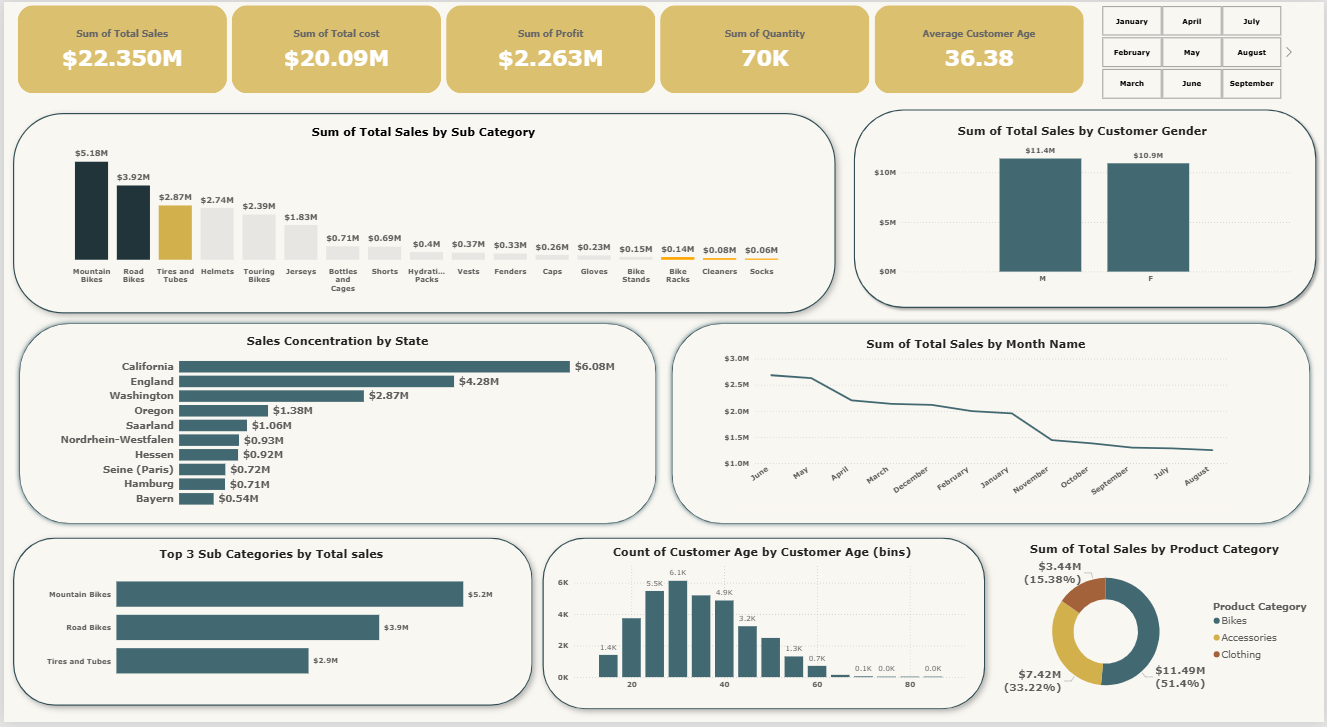

What the dashboard file says about the page in this screenshot:
{"tool":"powerbi","page":{"name":"Page 1","canvas":[2200,1200],"ordinal":0},"visuals":[{"type":"cardVisual","fields":{"Data":["Sum(dataset.Total Sales)","Sum(dataset.Total cost)","Sum(dataset.Profit)","Sum(dataset.Quantity)","dataset.Average Customer Age"]},"box":[17.5,0,1787.5,157.5],"z":0},{"type":"shape","box":[17.5,527.5,1077.5,350],"z":0,"group":"g3"},{"type":"barChart","title":"Sales Concentration by State","fields":{"Category":["dataset.State"],"Y":["Sum(dataset.Total Sales)"]},"box":[87.8,552.5,937,300],"z":1000,"group":"g3"},{"type":"donutChart","fields":{"Category":["dataset.Product Category"],"Y":["Sum(dataset.Total Sales)"]},"box":[1652.5,900,530,275],"z":1000},{"type":"slicer","fields":{"Values":["dataset.Date.Variation.Date Hierarchy.Month"]},"box":[1805,0,347.5,167.5],"z":2000},{"type":"group","id":"g1","title":"Group 1","box":[0,168.9,1406.7,348.9],"z":3000},{"type":"group","id":"g2","title":"Group 2","box":[0,876.7,886.7,323.3],"z":4000},{"type":"shape","box":[0,876.7,896,310.4],"z":4000,"group":"g2"},{"type":"shape","box":[0,168.9,1401.1,364.1],"z":5000,"group":"g1"},{"type":"group","id":"g3","title":"Group 3","box":[17.5,527.5,1077.5,350],"z":5000},{"type":"barChart","title":"Top 3 Sub Categories by Total sales","fields":{"Y":["Sum(dataset.Total Sales)"],"Category":["dataset.Sub Category"]},"box":[64.2,905.8,761.1,240.8],"z":5000,"group":"g2"},{"type":"columnChart","fields":{"Y":["Sum(dataset.Total Sales)"],"Category":["dataset.Sub Category"]},"box":[75.4,204.3,1248.4,288.2],"z":5500,"group":"g1"},{"type":"shape","box":[1104,528,1080,350],"z":5500,"group":"g4"},{"type":"group","id":"g4","title":"Group 4","box":[1104,528,1080,350],"z":6000},{"type":"lineChart","fields":{"Y":["Sum(dataset.Total Sales)"],"Category":["dataset.Month Name"]},"box":[1193,558.3,850.2,284.6],"z":6000,"group":"g4"},{"type":"group","id":"g5","title":"Group 6","box":[1406.7,168.9,788.9,348.9],"z":7000},{"type":"shape","box":[1406.7,168.9,788.9,348.9],"z":7001,"group":"g5"},{"type":"columnChart","fields":{"Category":["dataset.Customer Gender"],"Y":["Sum(dataset.Total Sales)"]},"box":[1445.2,200.3,704.4,275.6],"z":7501,"group":"g5"},{"type":"group","id":"g6","title":"Group 5","box":[883.3,876.7,770,296.7],"z":8000},{"type":"shape","box":[883.3,876.7,768,316.4],"z":8000,"group":"g6"},{"type":"clusteredColumnChart","fields":{"Category":["dataset.Customer Age (bins)"],"Y":["CountNonNull(dataset.Customer Age)"]},"box":[917.9,904.4,691.9,248.9],"z":9000,"group":"g6"}]}

Visuals, with their boxes in screenshot pixels (x1, y1, x2, y2), scaled from the page's 2200x1200 canvas onto the 1327x727 screenshot:
cardVisual - Sum(dataset.Total Sales) x Sum(dataset.Total cost): 11,0,1089,95
shape: 11,320,660,532
"Sales Concentration by State" barChart: 53,335,618,516
donutChart - dataset.Product Category x Sum(dataset.Total Sales): 997,545,1316,712
slicer - dataset.Date.Variation.Date Hierarchy.Month: 1089,0,1298,101
"Group 1" group: 0,102,848,314
"Group 2" group: 0,531,535,726
shape: 0,531,540,719
shape: 0,102,845,323
"Group 3" group: 11,320,660,532
"Top 3 Sub Categories by Total sales" barChart: 39,549,498,695
columnChart - Sum(dataset.Total Sales) x dataset.Sub Category: 45,124,798,298
shape: 666,320,1317,532
"Group 4" group: 666,320,1317,532
lineChart - Sum(dataset.Total Sales) x dataset.Month Name: 720,338,1232,511
"Group 6" group: 848,102,1324,314
shape: 848,102,1324,314
columnChart - dataset.Customer Gender x Sum(dataset.Total Sales): 872,121,1297,288
"Group 5" group: 533,531,997,711
shape: 533,531,996,723
clusteredColumnChart - dataset.Customer Age (bins) x CountNonNull(dataset.Customer Age): 554,548,971,699
